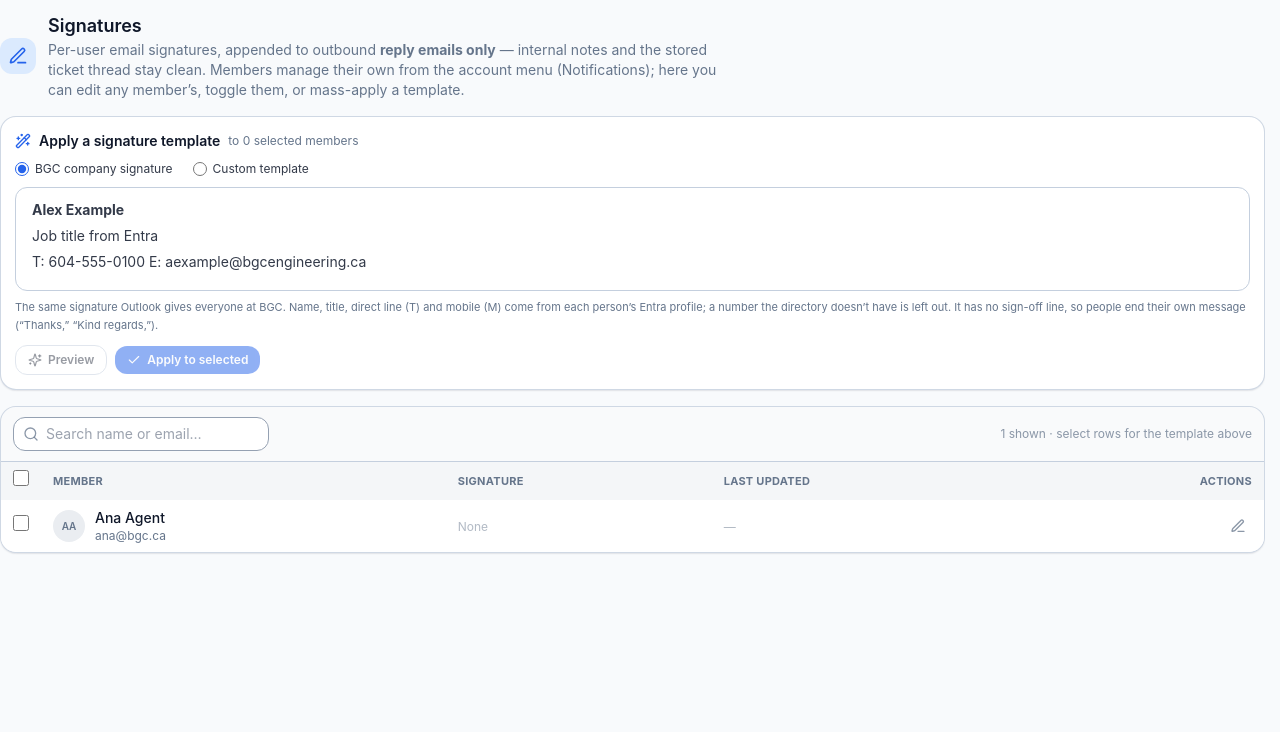
SignaturesPanel — the BGC company signature is the default template › with a company template from the server: a sample is shown and preview sends useCompanyTemplate, not editor HTML
Expected: the text "Alex Example" is shown, x1=32 y1=201 x2=124 y2=218
What coordinates should you click on to do the following:
click the checkbox named "Select Ana Agent"
I would click on:
 (21, 523)
Its box is x1=13 y1=515 x2=29 y2=531.
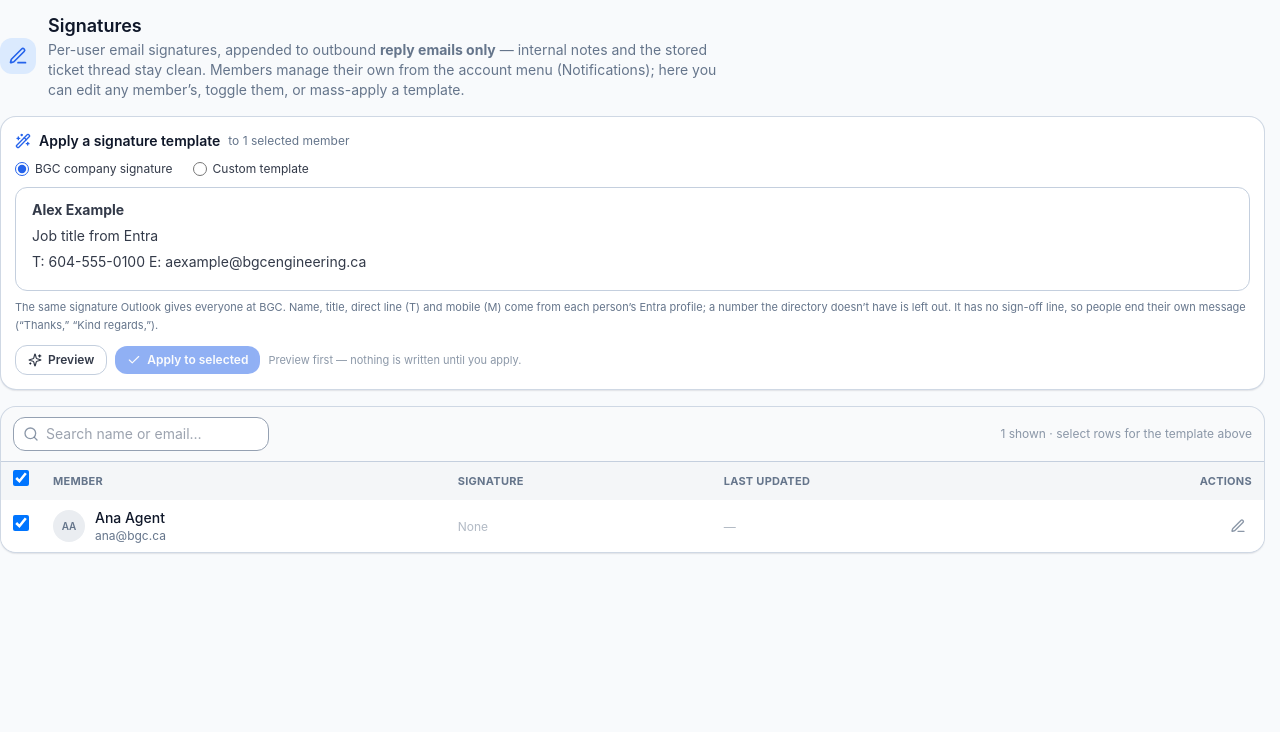
What coordinates should you click on to do the following:
click the button "Preview"
I would click on:
 (61, 360)
Its box is x1=15 y1=345 x2=107 y2=375.
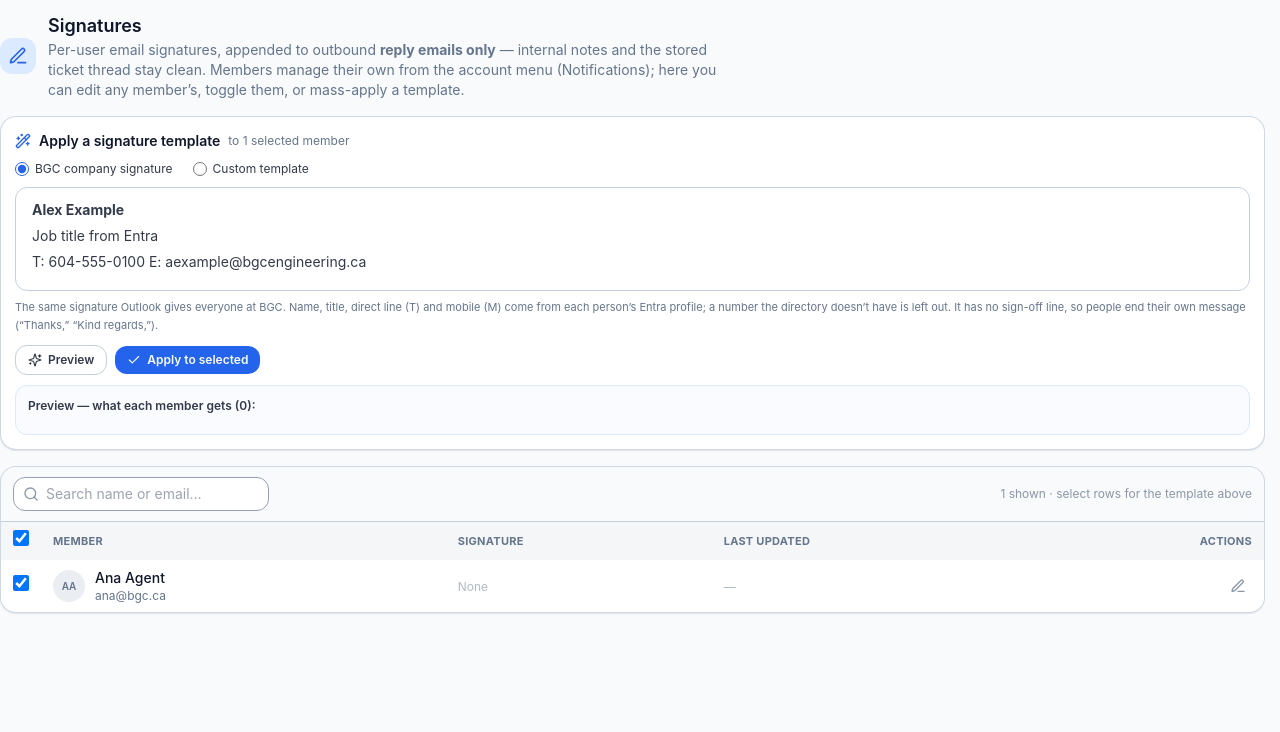
// Custom is one click away and brings the editor back.
What coordinates should you click on to do the following:
click the radio button labelled "Custom template"
I would click on:
 (200, 169)
Its box is x1=192 y1=162 x2=206 y2=176.
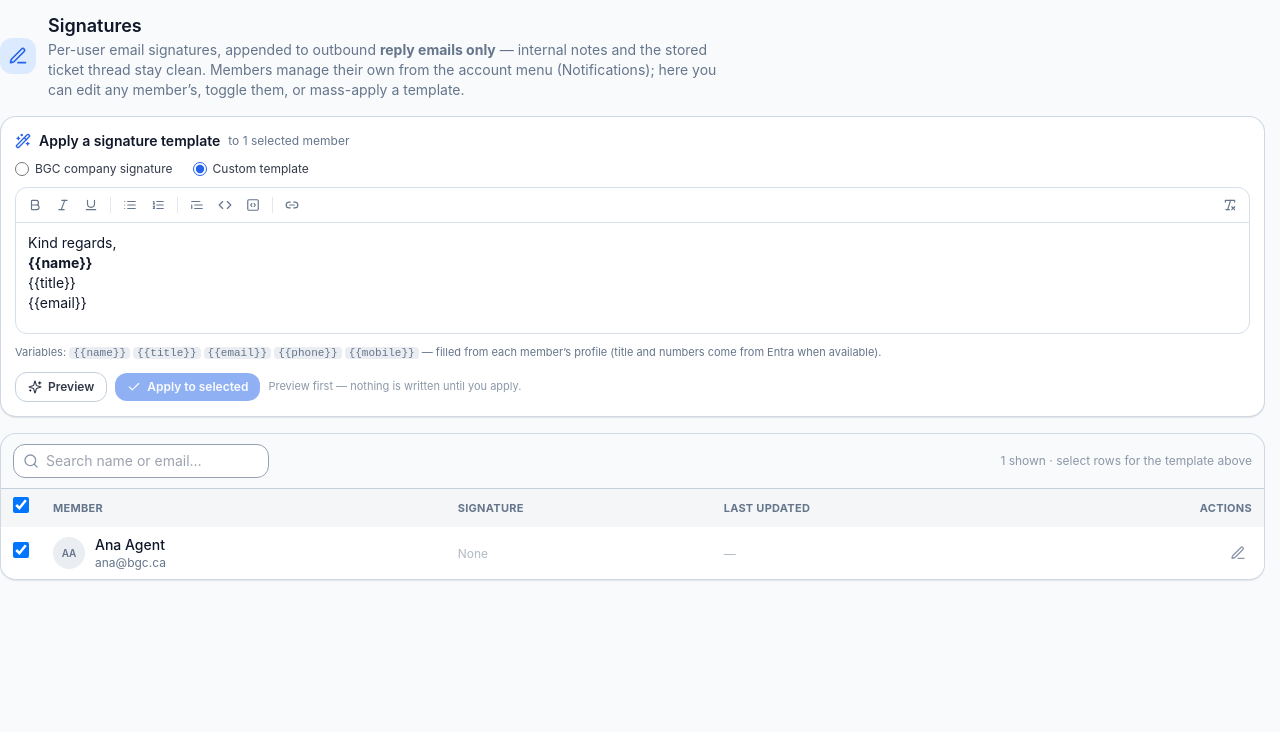
Expected: the field named "Signature template" is shown, x1=28 y1=234 x2=116 y2=311
